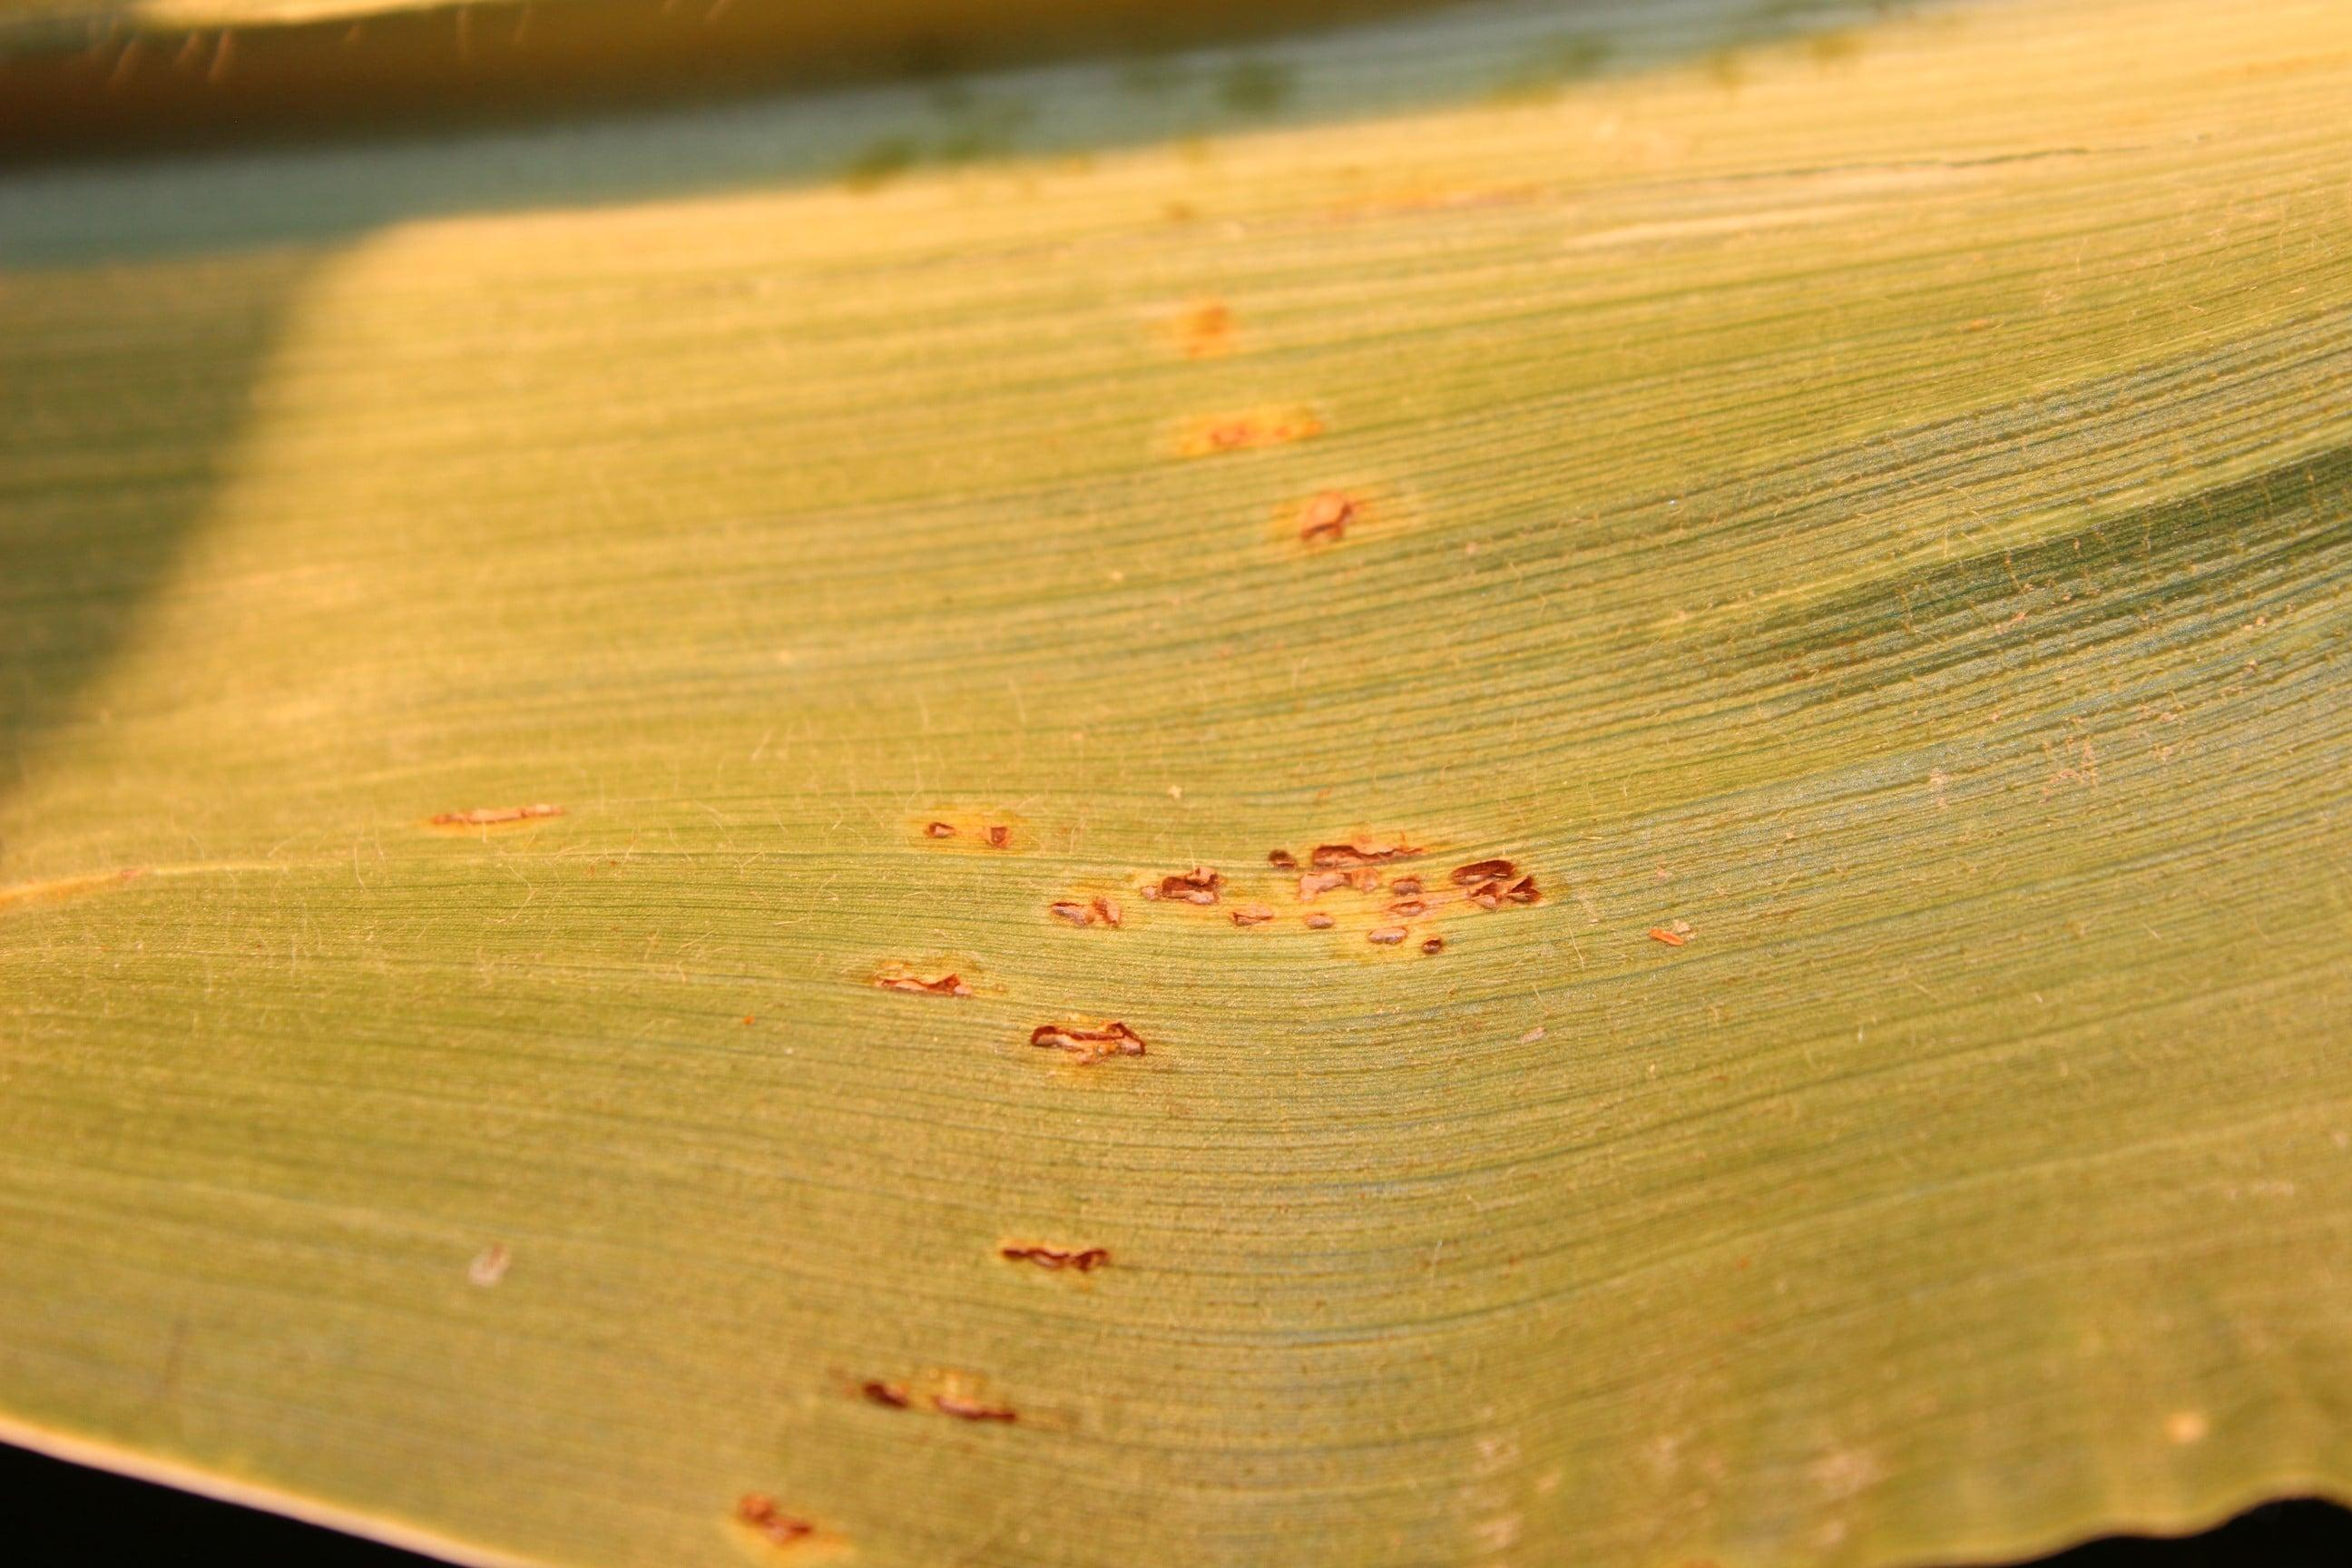Corn_Common_Rust: (896, 767, 1600, 936), (1073, 243, 1330, 458), (816, 1342, 1045, 1468), (1314, 131, 1558, 236), (938, 1211, 1144, 1309), (1256, 462, 1426, 576), (1003, 1003, 1179, 1108), (704, 1463, 847, 1568), (371, 770, 576, 837), (843, 938, 985, 1010), (1634, 871, 1718, 978)
